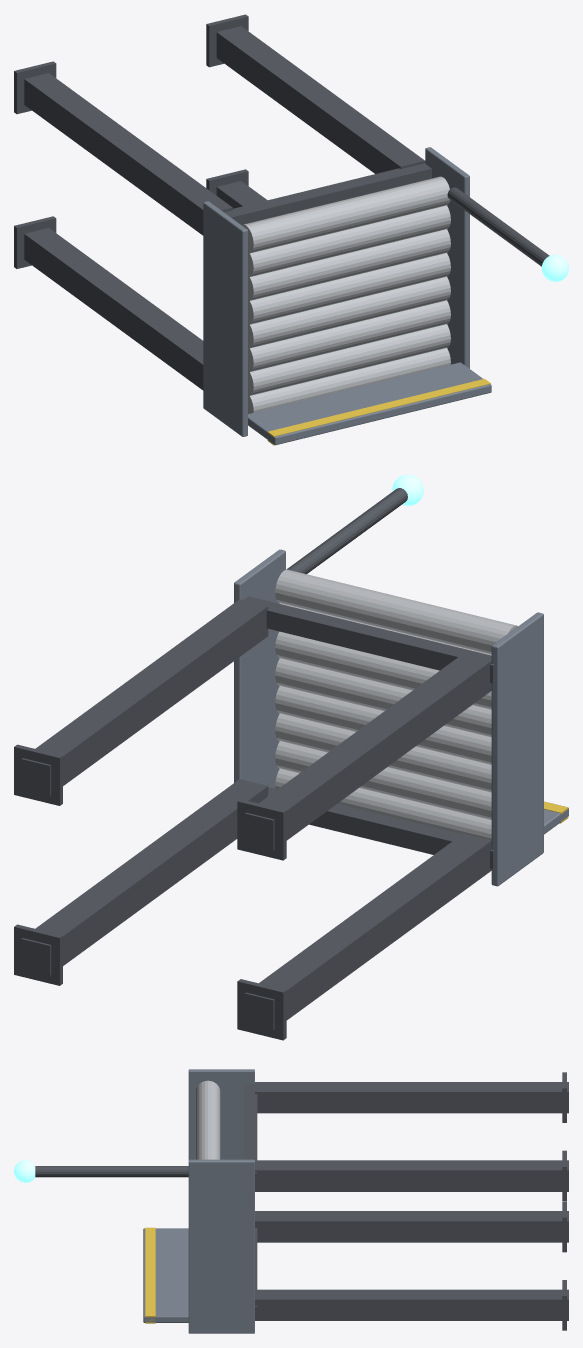
Rendered from CONV.glb.
3 views of the same model, one above another, from view 1: azimuth 30°, elevation 25°; view 2: azimuth 150°, elevation 25°; view 3: azimuth 270°, elevation 25° (orthographic). The views are drawn at different scales.
Visible parts, largest first — view 1: CONV_side_l, CONV_leg_-1_1, CONV_leg_1_1, CONV_leg_-1_-1, CONV_stop, CONV_roller_7, CONV_roller_1, CONV_roller_4, CONV_roller_3, CONV_roller_6, CONV_roller_2, CONV_roller_5 (+11 smaller); view 2: CONV_leg_-1_-1, CONV_leg_-1_1, CONV_leg_1_1, CONV_side_l, CONV_leg_1_-1, CONV_roller_7, CONV_side_r, CONV_cross_b, CONV_roller_1, CONV_roller_2, CONV_roller_4, CONV_roller_3 (+8 smaller); view 3: CONV_side_r, CONV_leg_1_1, CONV_leg_1_-1, CONV_leg_-1_-1, CONV_leg_-1_1, CONV_stop, CONV_side_l, CONV_roller_7, CONV_post, CONV_cross_b, CONV_stopyellow, CONV_lamp.
Boxes of the visible parts, <box> form: CONV_side_l: <box>203,201,247,436</box>; CONV_leg_-1_1: <box>24,73,232,235</box>; CONV_leg_1_1: <box>216,26,425,173</box>; CONV_leg_-1_-1: <box>24,228,203,390</box>; CONV_stop: <box>248,362,491,445</box>; CONV_roller_7: <box>242,176,450,253</box>; CONV_roller_1: <box>248,324,450,395</box>; CONV_roller_4: <box>248,253,450,324</box>; CONV_roller_3: <box>248,276,450,348</box>; CONV_roller_6: <box>248,205,450,277</box>; CONV_roller_2: <box>248,300,450,371</box>; CONV_roller_5: <box>248,229,450,300</box>; CONV_leg_-1_-1: <box>244,833,491,1030</box>; CONV_leg_-1_1: <box>244,653,491,850</box>; CONV_leg_1_1: <box>21,599,268,795</box>; CONV_side_l: <box>491,612,543,886</box>; CONV_leg_1_-1: <box>21,779,268,975</box>; CONV_roller_7: <box>275,569,517,654</box>; CONV_side_r: <box>234,549,285,788</box>; CONV_cross_b: <box>244,596,494,683</box>; CONV_roller_1: <box>275,741,491,820</box>; CONV_roller_2: <box>275,713,491,792</box>; CONV_roller_4: <box>275,658,491,737</box>; CONV_roller_3: <box>275,686,491,764</box>; CONV_side_r: <box>188,1159,254,1333</box>; CONV_leg_1_1: <box>255,1160,568,1191</box>; CONV_leg_1_-1: <box>255,1289,568,1320</box>; CONV_leg_-1_-1: <box>255,1211,568,1242</box>; CONV_leg_-1_1: <box>255,1082,568,1113</box>; CONV_stop: <box>143,1228,188,1322</box>; CONV_side_l: <box>188,1069,254,1159</box>; CONV_roller_7: <box>195,1080,220,1159</box>; CONV_post: <box>35,1166,188,1177</box>; CONV_cross_b: <box>243,1084,257,1186</box>; CONV_stopyellow: <box>145,1227,155,1323</box>; CONV_lamp: <box>14,1160,35,1182</box>.
Bounding box in the file's own units: 0.47 × 0.4 × 1.17.
